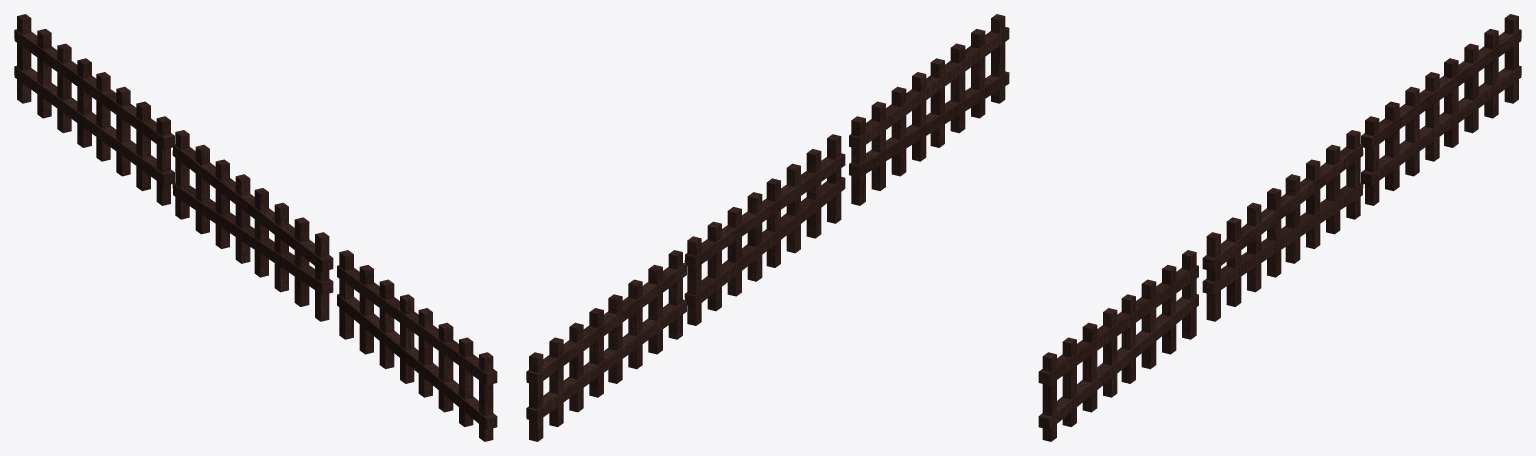
File: woodFence2.glb
3 views of the same model, side by side, from view 1: azimuth 30°, elevation 25°; view 2: azimuth 150°, elevation 25°; view 3: azimuth 330°, elevation 25° (orthographic).
Parts seen in each view (by area): view 1: fence.002, fence, fence.001; view 2: fence, fence.002, fence.001; view 3: fence.002, fence, fence.001.
Part boxes in pixels (x1,y1,x2,y2): fence.002: (337,250,497,441); fence: (172,130,333,321); fence.001: (14,14,174,205); fence: (684,134,845,325); fence.002: (849,14,1009,205); fence.001: (526,250,686,441); fence.002: (1038,250,1198,441); fence: (1202,130,1363,321); fence.001: (1361,14,1521,205).
Bounding box in the file's own units: 0.437 × 3.2 × 32.8.
Materials: 1 (1 with a texture image).
